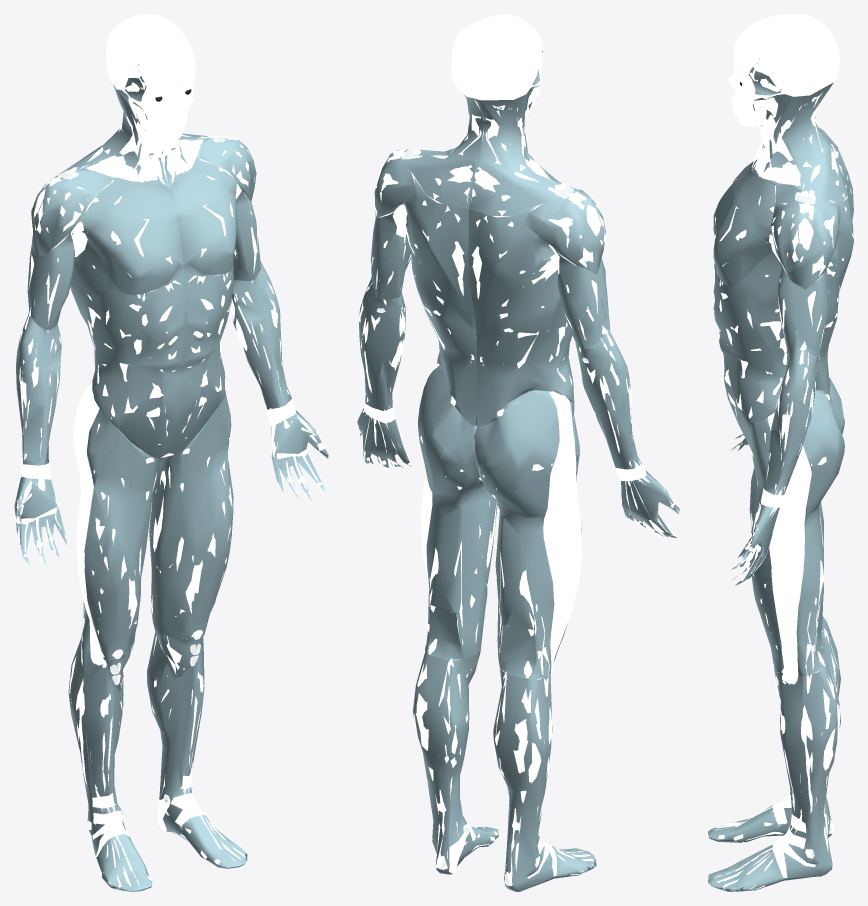
Rendered from endocrino.glb.
3 renders of one model, left to right at view 1: azimuth 30°, elevation 25°; view 2: azimuth 150°, elevation 25°; view 3: azimuth 270°, elevation 25°, orthographic. The views are drawn at different scales.
Parts seen in each view (by area): view 1: Investing abdominal fascia.r, Fascia lata.l, Fascia lata.r, Crural fascia.l, Pectoral fascia.r, Crural fascia.r, Investing abdominal fascia.l, Pectoral fascia.l, Antebrachial fascia.r, Antebrachial fascia.l, Deltoid fascia.r, Iliotibial tract.r (+14 smaller); view 2: Investing abdominal fascia.r, Fascia lata.r, Fascia lata.l, Investing abdominal fascia.l, Crural fascia.r, Crural fascia.l, Iliotibial tract.r, Superficial investing cervical fascia.r, Antebrachial fascia.r, Antebrachial fascia.l, Superficial investing cervical fascia.l, Deltoid fascia.r (+15 smaller); view 3: Investing abdominal fascia.l, Crural fascia.l, Fascia lata.l, Iliotibial tract.l, Superficial investing cervical fascia.l, Pectoral fascia.l, Deltoid fascia.l, Antebrachial fascia.l, Brachial fascia.l, Epicranial aponeurosis.l, Crural fascia.r, Temporoparietalis muscle.l (+17 smaller).
Part boxes in pixels (x1,y1,x2,y2): Investing abdominal fascia.r: (70,240,185,458); Fascia lata.l: (149,391,233,639); Fascia lata.r: (80,409,163,660); Crural fascia.l: (147,626,247,868); Pectoral fascia.r: (78,179,183,295); Crural fascia.r: (68,640,152,891); Investing abdominal fascia.l: (168,264,233,453); Pectoral fascia.l: (168,158,238,275); Antebrachial fascia.r: (16,316,61,465); Antebrachial fascia.l: (232,261,291,409); Deltoid fascia.r: (31,170,113,256); Iliotibial tract.r: (73,381,106,667); Investing abdominal fascia.r: (468,207,574,427); Fascia lata.r: (474,390,581,679); Fascia lata.l: (418,365,497,658); Investing abdominal fascia.l: (401,177,476,426); Crural fascia.r: (493,667,596,891); Crural fascia.l: (412,652,498,874); Iliotibial tract.r: (543,391,581,677); Superficial investing cervical fascia.r: (469,87,570,215); Antebrachial fascia.r: (575,331,641,469); Antebrachial fascia.l: (358,278,405,410); Superficial investing cervical fascia.l: (399,94,483,208); Deltoid fascia.r: (522,174,605,274); Investing abdominal fascia.l: (713,195,853,449); Crural fascia.l: (708,659,840,891); Fascia lata.l: (751,390,844,676); Iliotibial tract.l: (767,412,811,684); Superficial investing cervical fascia.l: (752,82,847,205); Pectoral fascia.l: (713,171,775,286); Deltoid fascia.l: (770,184,842,289); Antebrachial fascia.l: (764,349,819,495); Brachial fascia.l: (777,260,829,358); Epicranial aponeurosis.l: (738,18,839,77); Crural fascia.r: (708,620,840,842); Temporoparietalis muscle.l: (758,47,821,96).
Size of the model in its own units: 0.6662 by 1.7 by 0.2672.
